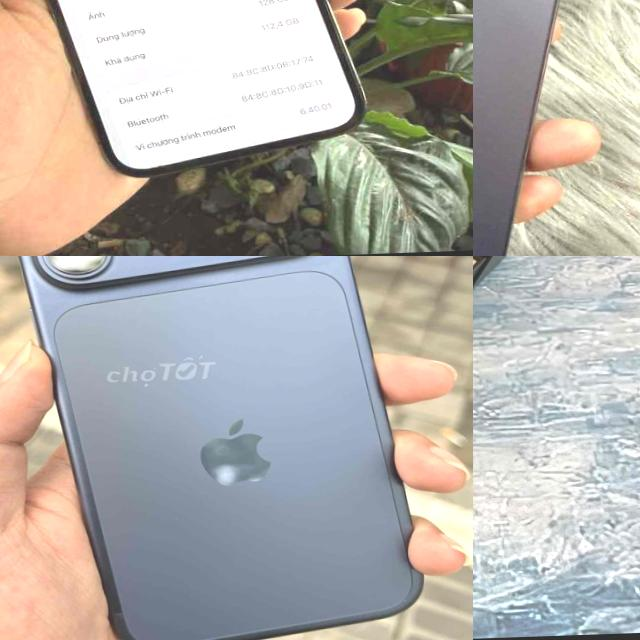gen_12_13: (0, 0, 369, 182)
gen_14: (473, 0, 601, 256)
gen_17: (0, 256, 440, 640)
